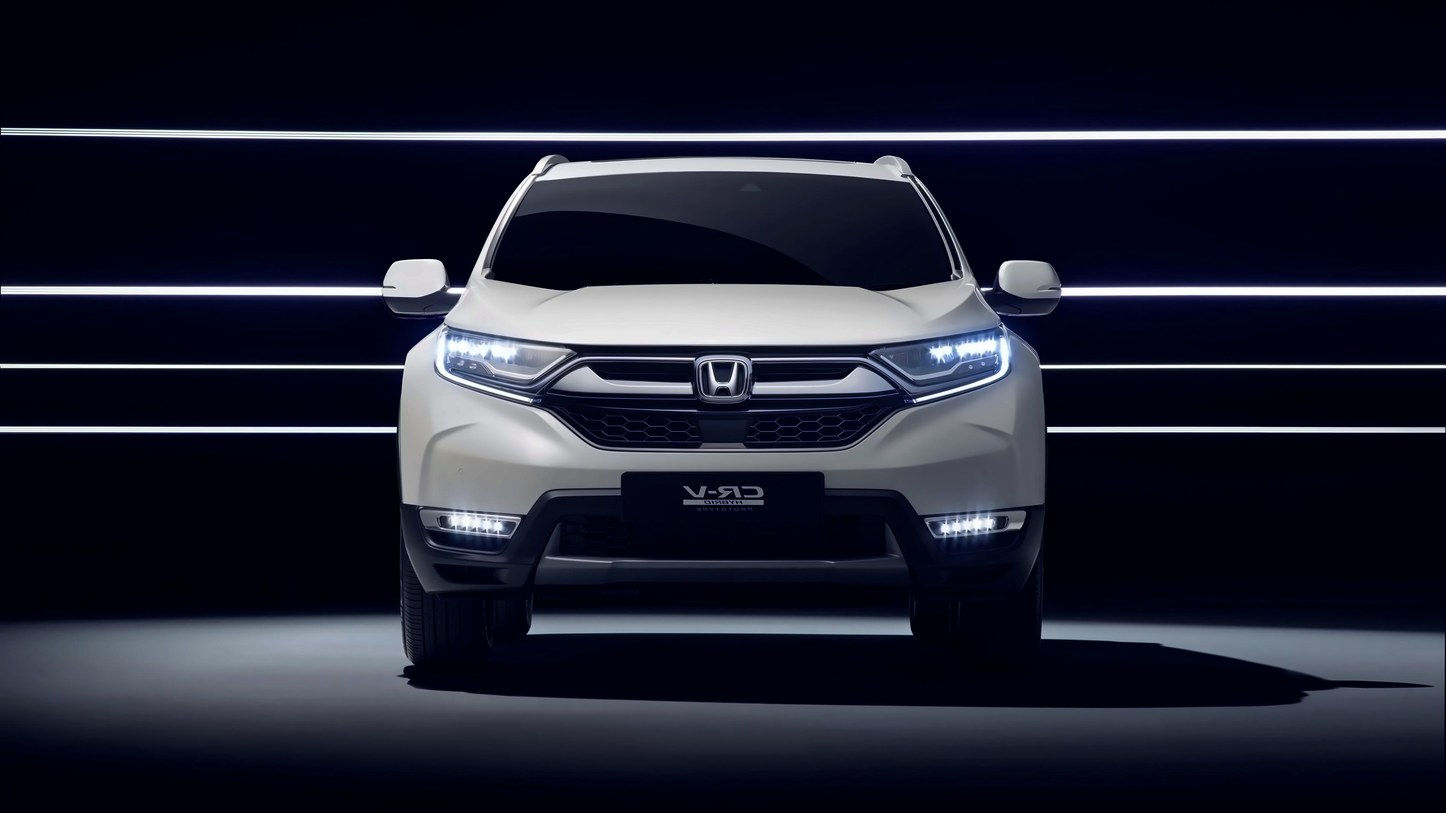Car hood: (443, 275, 1003, 349)
Front bumper: (391, 384, 1057, 607)
Headlight - -L-: (862, 321, 1016, 415)
Headlight - -R-: (432, 319, 582, 409)
Side mirror - -L-: (983, 252, 1066, 322)
Side mirror - -R-: (374, 254, 468, 324)
